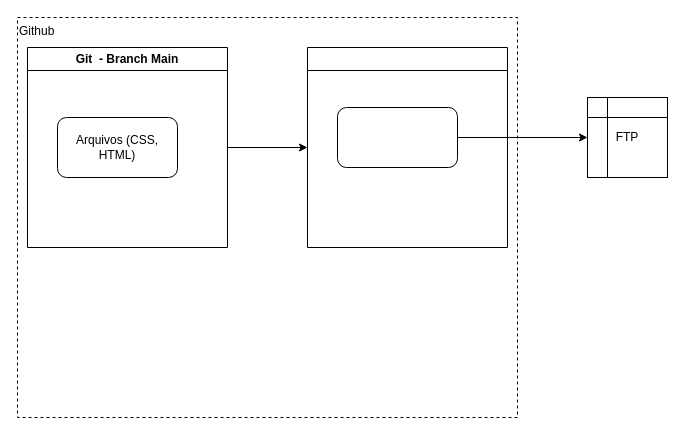
Some shapes in this 685 by 435 pixel diagram are drawn without their labels. The shapes that lost their labels are listed below. From the top down, each one's box as (x1, y1, x2, y2) in pixels, then its label:
(336, 106, 458, 168): Roda meu github acction
(306, 46, 508, 248): Gitflow
